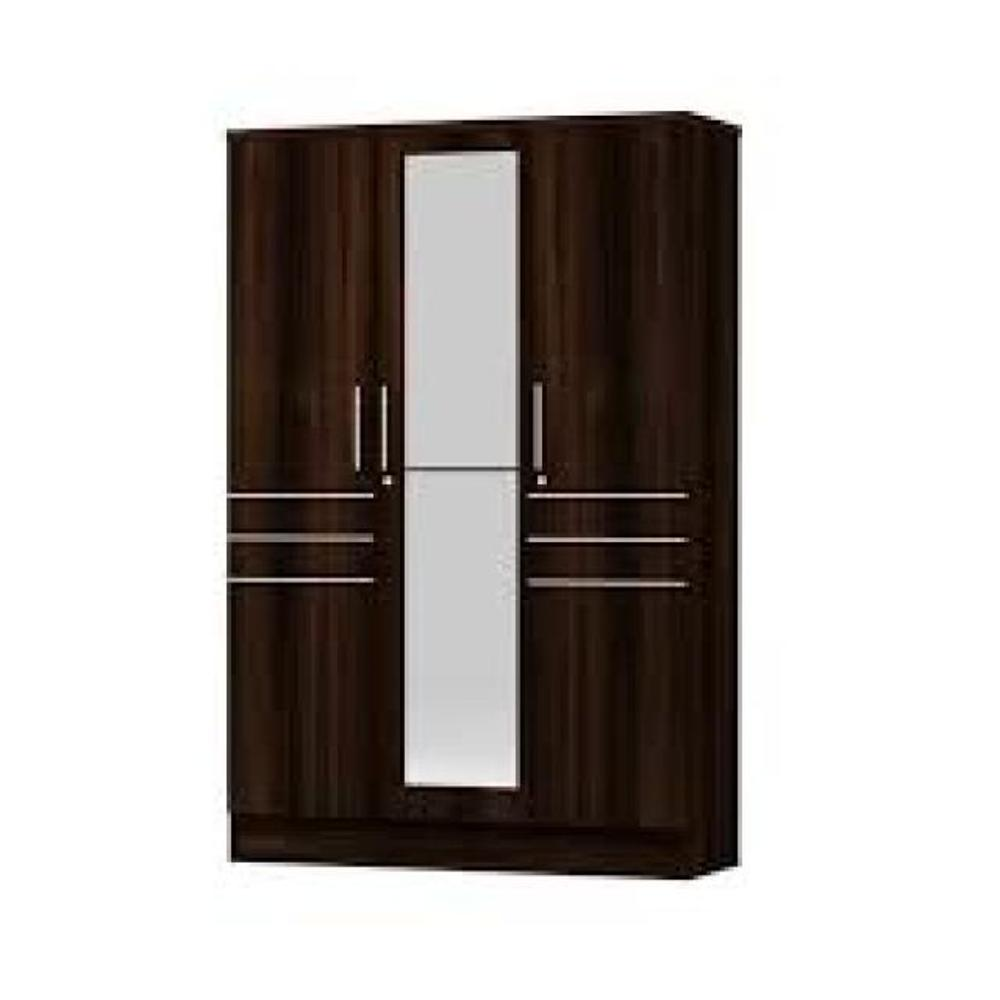cabinet: (225, 98, 746, 891)
